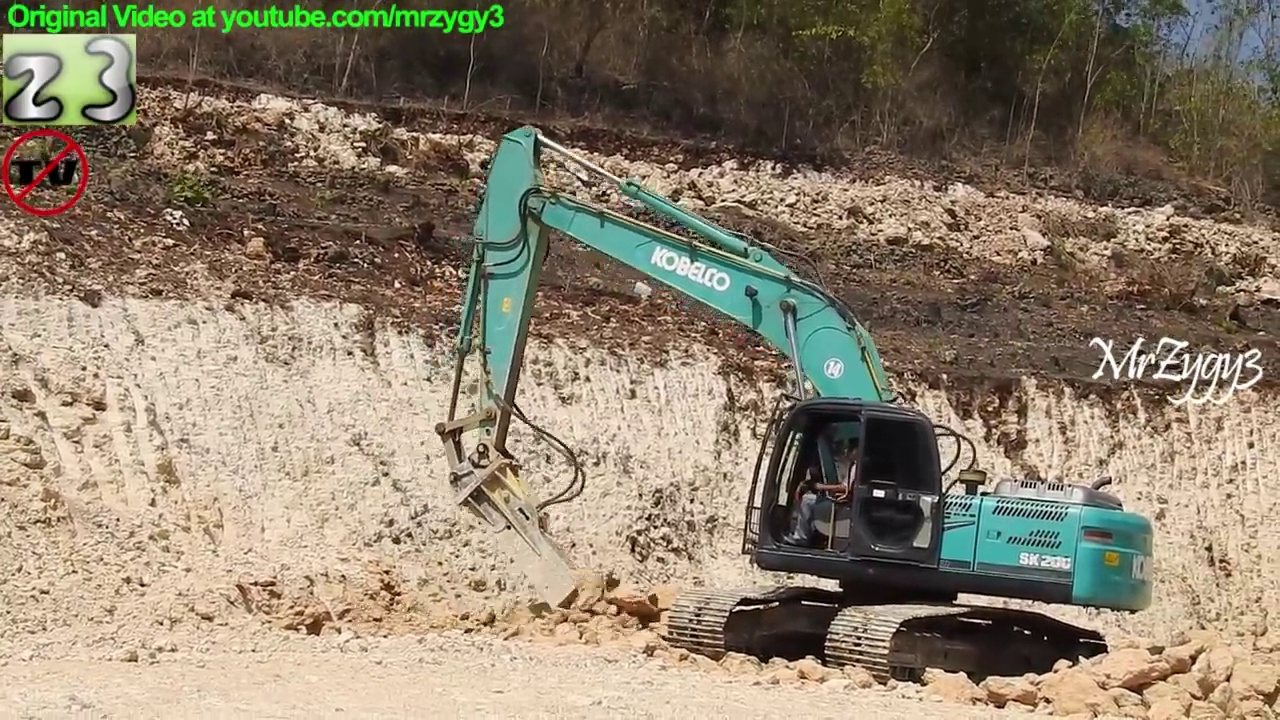excavator breaker: (427, 119, 1164, 703)
